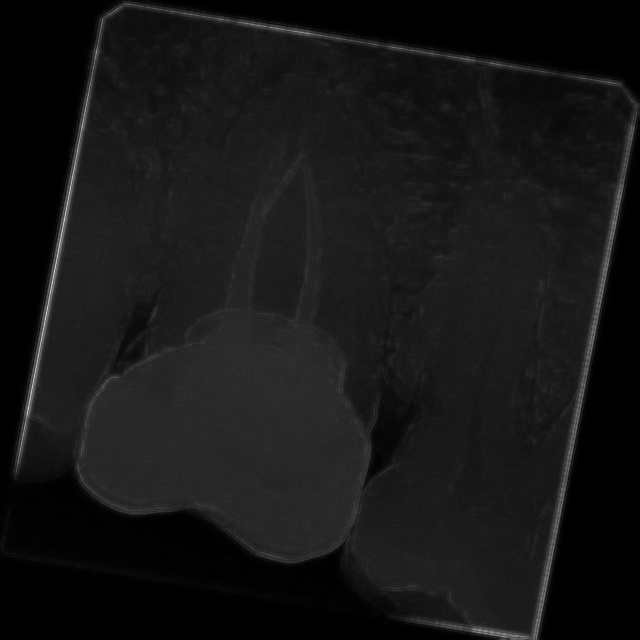Class 1- complete endodontic treatment: (62, 29, 453, 582)
cavity: (353, 138, 623, 612)
